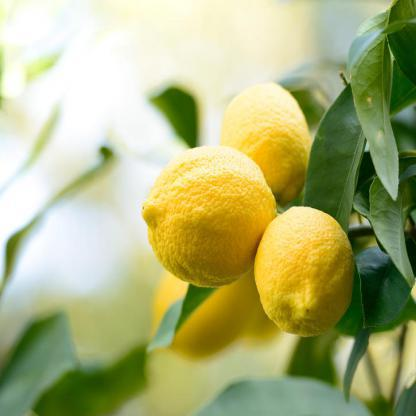lemon: (139, 143, 280, 290), (248, 199, 360, 340), (219, 78, 313, 210)
